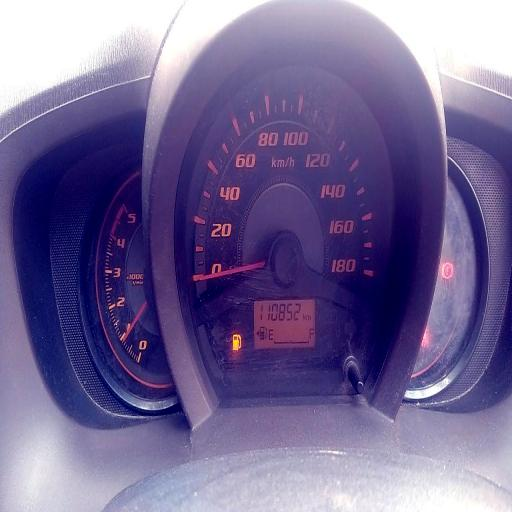brake_system_fault: (442, 262, 453, 280)
tachometer: (96, 168, 175, 392)
